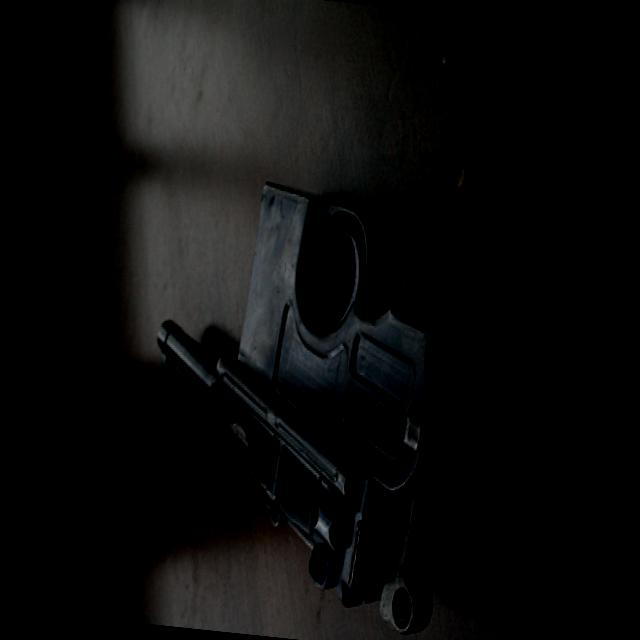handgun: (122, 0, 597, 639)
